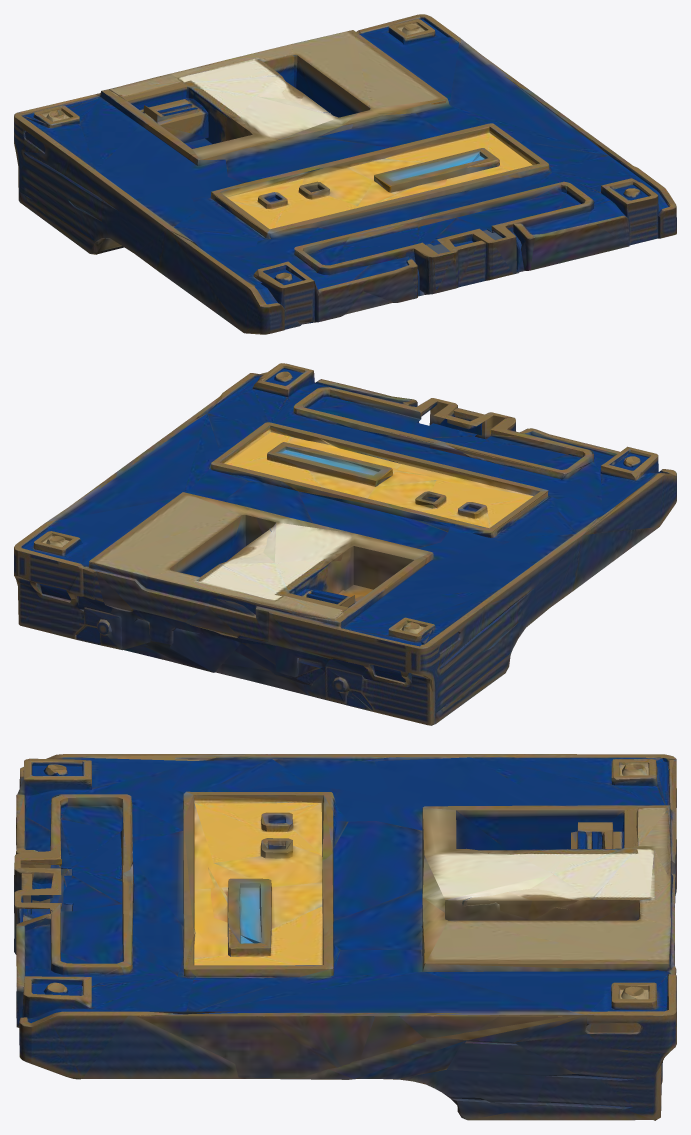
The model's file is floppy-disk.glb.
3 views of the same model, one above another, from view 1: azimuth 30°, elevation 25°; view 2: azimuth 150°, elevation 25°; view 3: azimuth 270°, elevation 25° (orthographic). The views are drawn at different scales.
Visible parts, largest first — view 1: charm-floppy-disk; view 2: charm-floppy-disk; view 3: charm-floppy-disk.
Part boxes in pixels (x1,y1,x2,y2): charm-floppy-disk: (14, 14, 676, 334); charm-floppy-disk: (14, 363, 676, 725); charm-floppy-disk: (14, 754, 676, 1120).
Bounding box in the file's own units: 0.9352 × 0.1932 × 1.
1 material, 1 textured.
